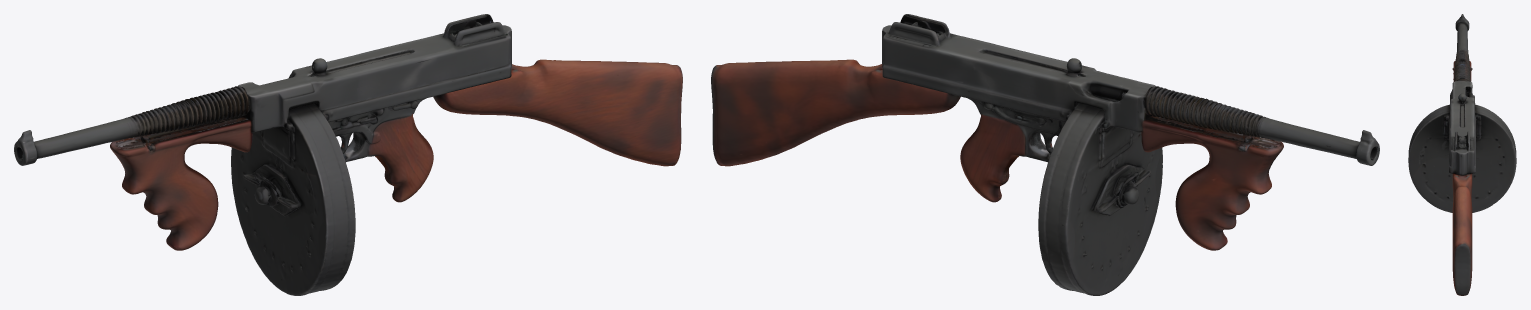
The model's file is Thompson_submachine_g_1114203717_texture.fbx.
The picture shows the model from 3 angles, left to right: view 1: azimuth 30°, elevation 25°; view 2: azimuth 150°, elevation 25°; view 3: azimuth 270°, elevation 25°; orthographic projection. The views are drawn at different scales.
Visible parts, largest first — view 1: input; view 2: input; view 3: input.
Boxes of the visible parts, <box> form: input: <box>14,14,682,295</box>; input: <box>711,14,1379,295</box>; input: <box>1408,14,1516,295</box>.
Size of the model in its own units: 190 by 60.91 by 48.33.
1 material, 1 textured.
